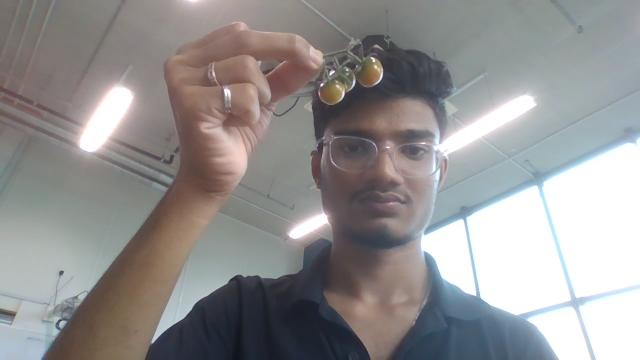Fully Grown: (355, 56, 384, 88), (318, 78, 347, 106)
